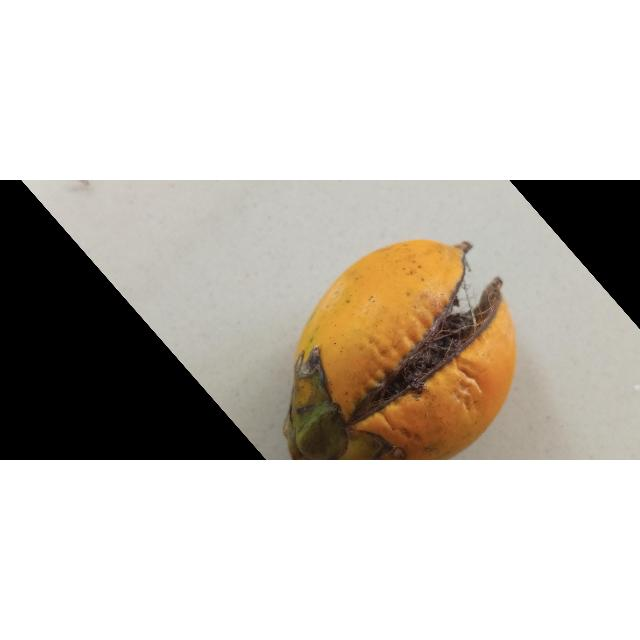damaged: (285, 240, 517, 461)
